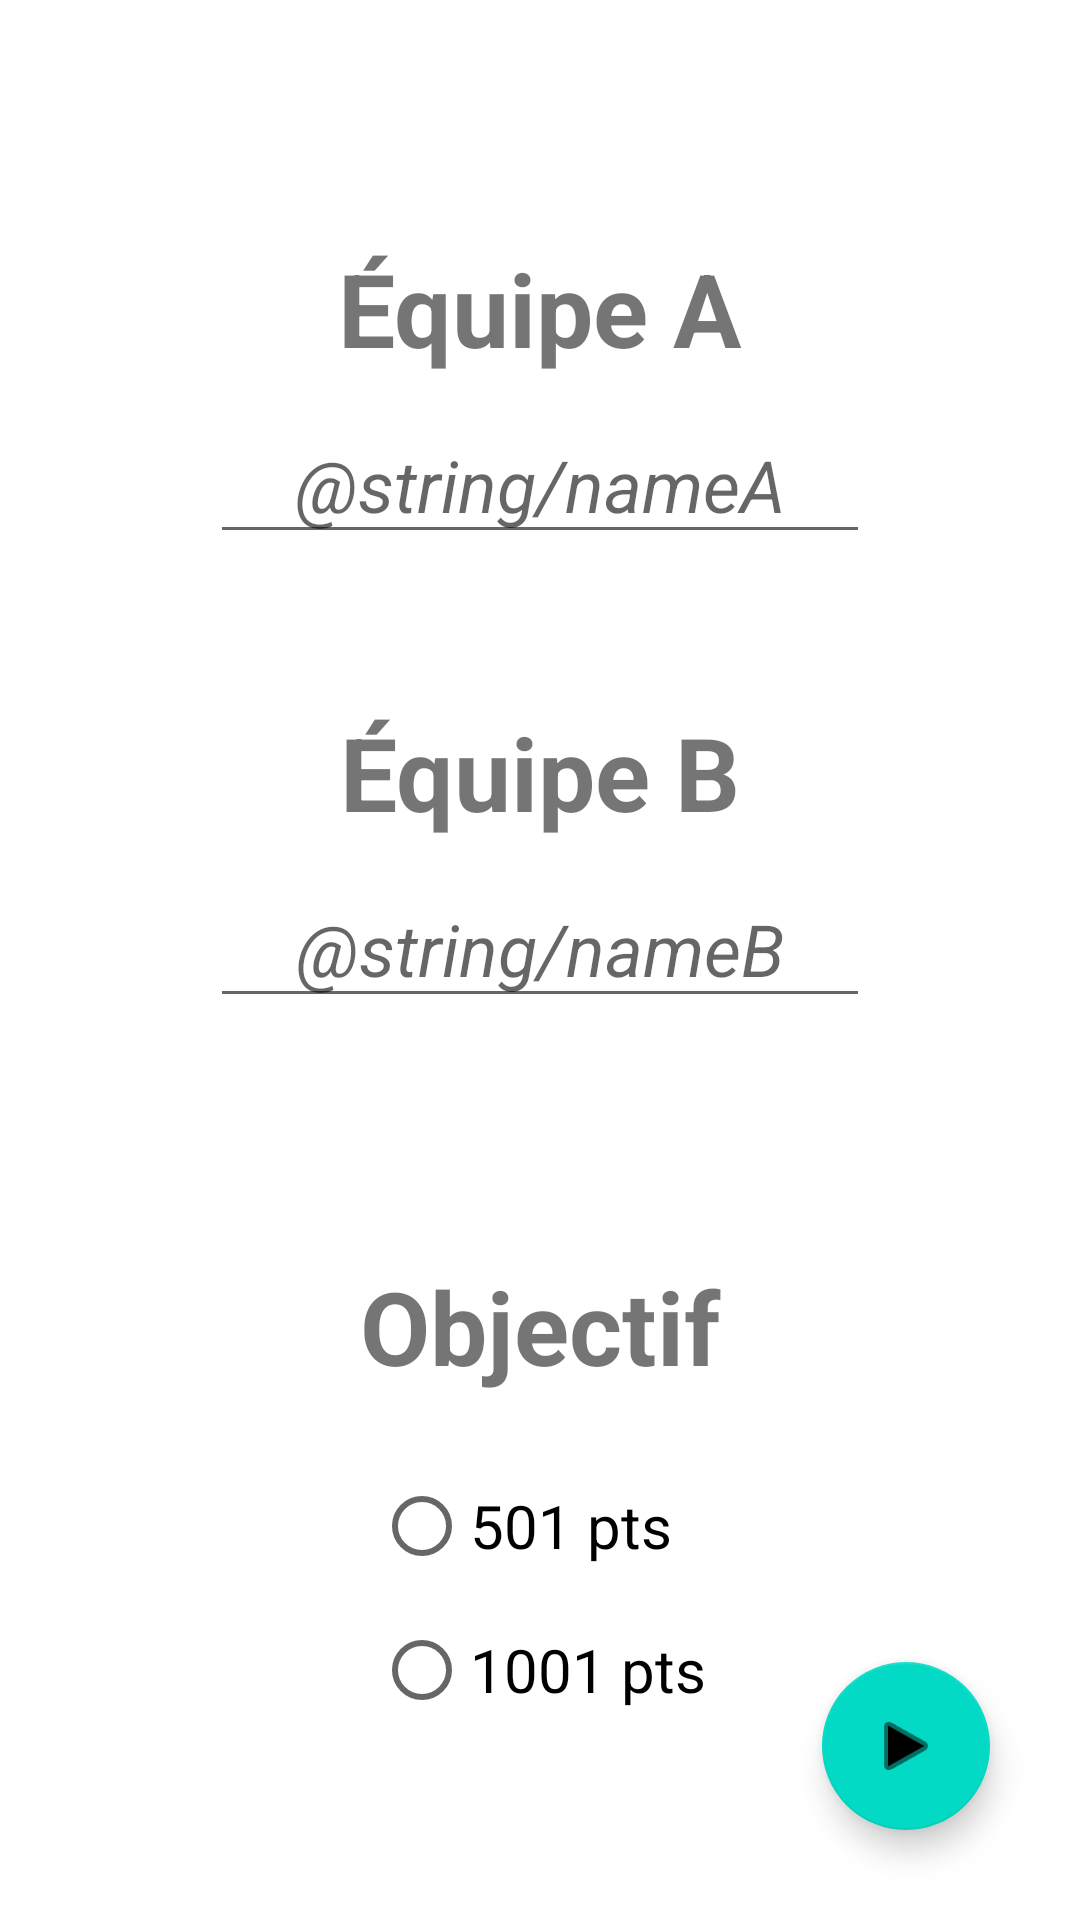

Icon click points for this 1080px×1920px phone screenshot, format (x=x, y=y):
play: (x=906, y=1746)
